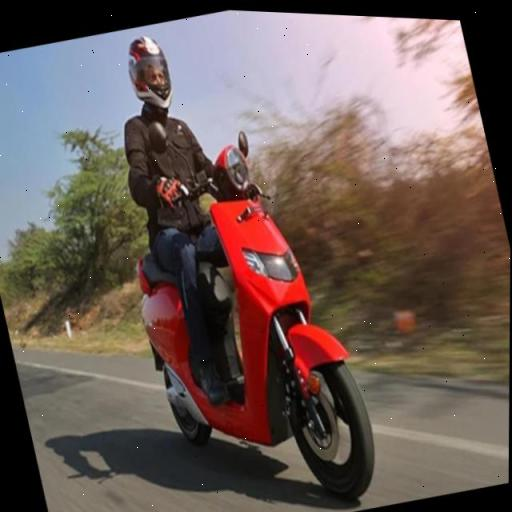Helmet: (119, 23, 186, 120)
Motor: (102, 110, 394, 511)
